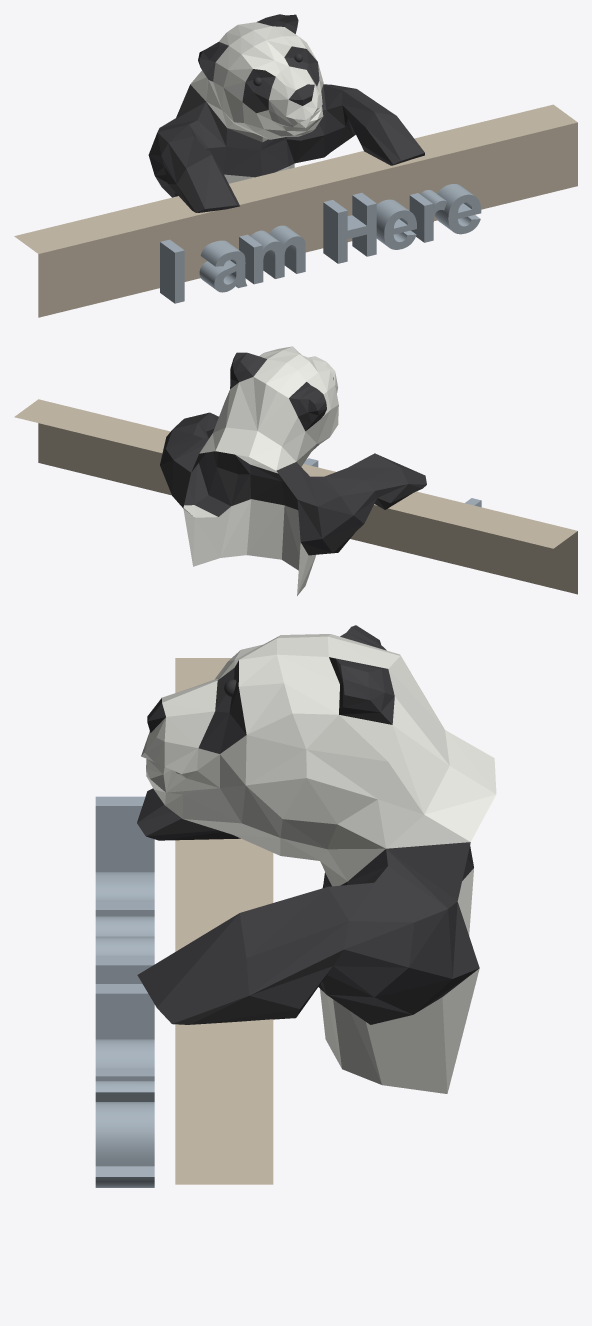
File: IamHere.fbx
3 views of the same model, one above another, from view 1: azimuth 30°, elevation 25°; view 2: azimuth 150°, elevation 25°; view 3: azimuth 270°, elevation 25° (orthographic). The views are drawn at different scales.
Visible parts, largest first — view 1: Box001; view 2: Box001; view 3: Box001.
Boxes of the visible parts, x1,y1,x2,y2 form: Box001: (14,14,577,317); Box001: (14,346,577,595); Box001: (95,625,496,1187).
Bounding box in the file's own units: 76.92 × 27.56 × 24.75.
